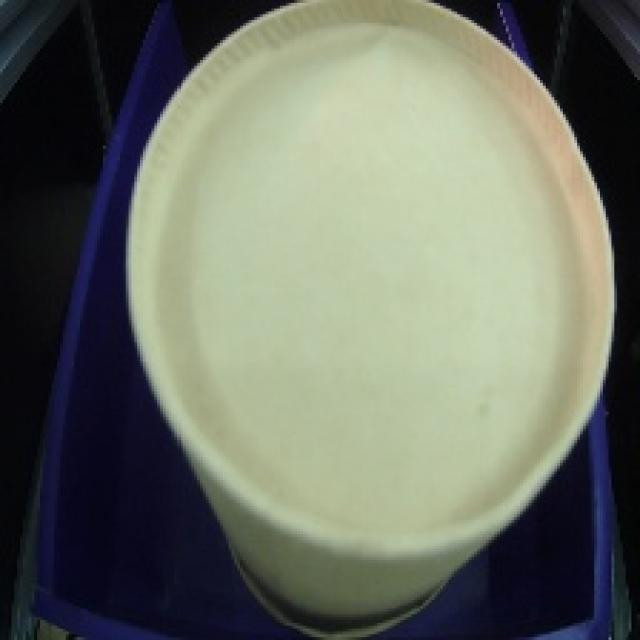cups: (106, 0, 624, 640)
